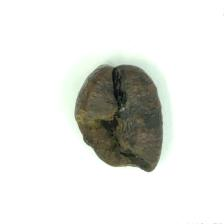NG: (72, 114, 161, 173)
